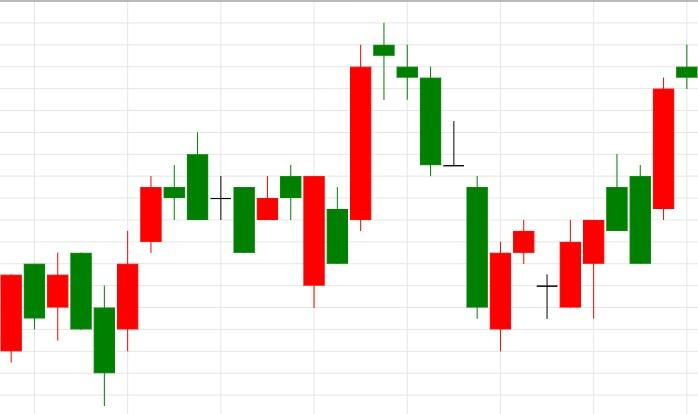three_black_crows_fall: (303, 23, 442, 308)
